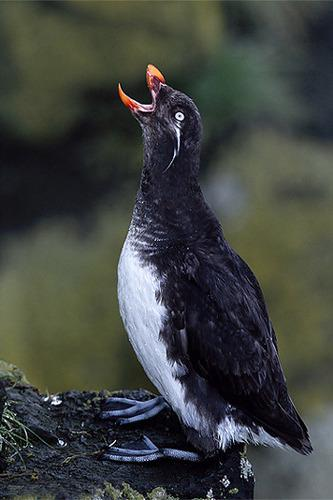007.Parakeet_Auklet: (93, 63, 316, 469)
